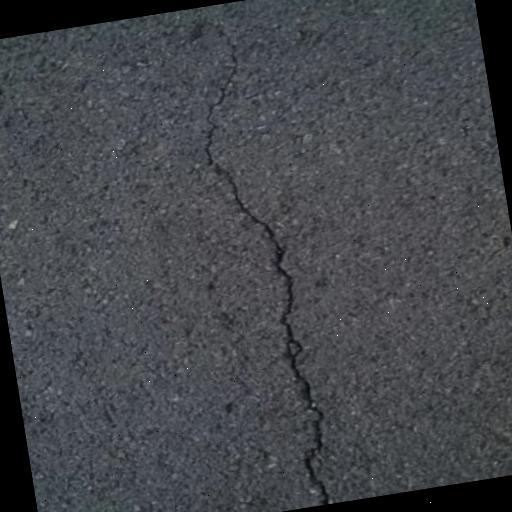spalling: (189, 11, 351, 506)
